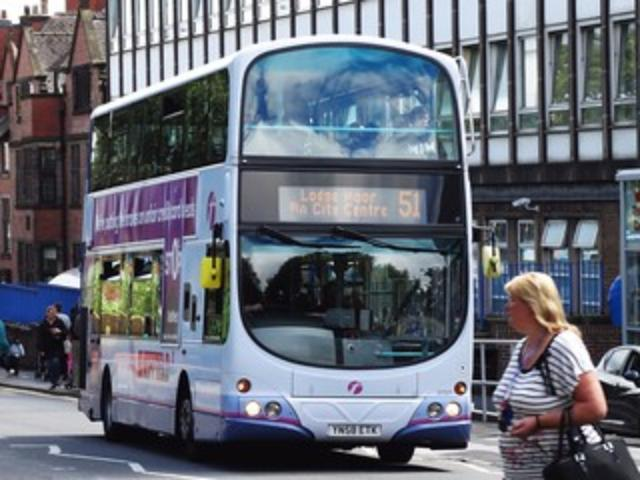bus: (78, 32, 470, 466)
